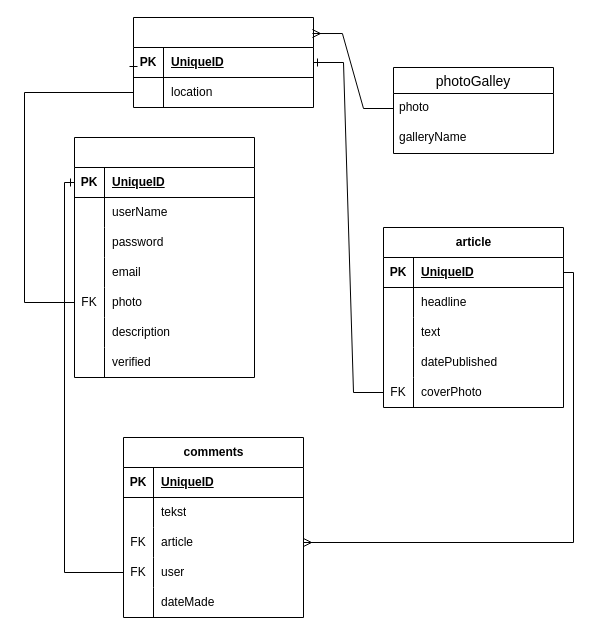
Image size: 599x635. Some labels were removed from this diagram. Each missing label, with the box of its shape:
photos: (132, 16, 314, 108)
users: (74, 136, 254, 378)
